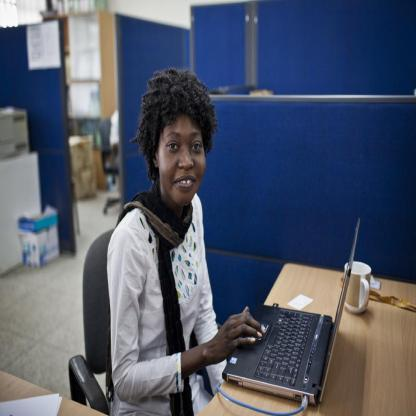board: (220, 217, 361, 409)
